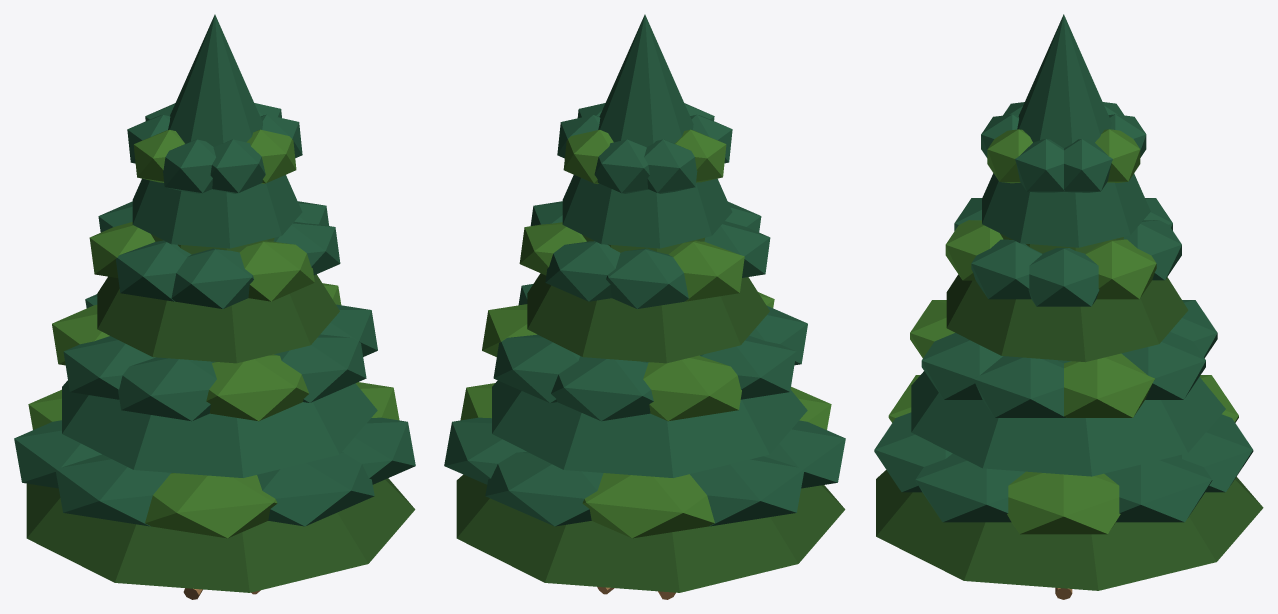
Rendered from tree_pine.glb.
The picture shows the model from 3 angles, left to right: view 1: azimuth 30°, elevation 25°; view 2: azimuth 150°, elevation 25°; view 3: azimuth 270°, elevation 25°; orthographic projection.
Visible parts, largest first — view 1: tree_pine; view 2: tree_pine; view 3: tree_pine.
Part boxes in pixels (box(x1,y1,x2,y2)): tree_pine: box(14, 14, 415, 599); tree_pine: box(444, 14, 845, 599); tree_pine: box(874, 14, 1263, 599).
Size of the model in its own units: 3.34 by 5.13 by 3.21.
